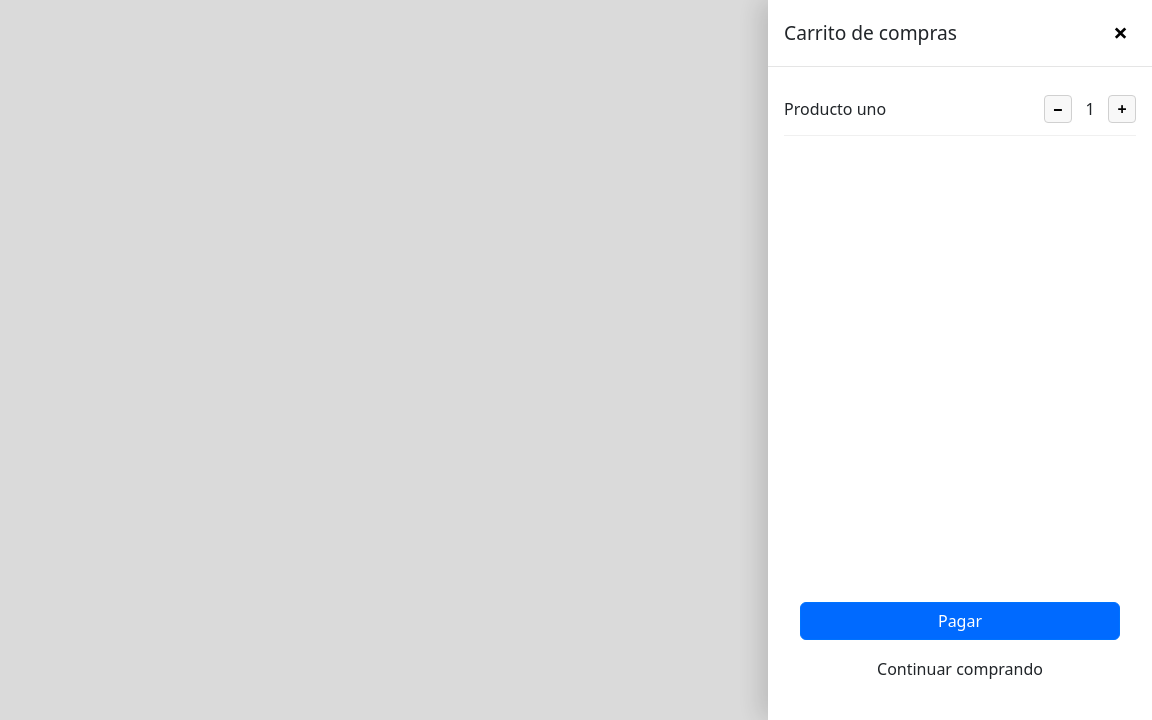
Test: ShoppingCartComponent › el botón disminuir elimina la línea al llegar a una unidad
Step 1. Click the button named "Disminuir Producto uno" → point(1058, 109), box x1=1044 y1=95 x2=1072 y2=123
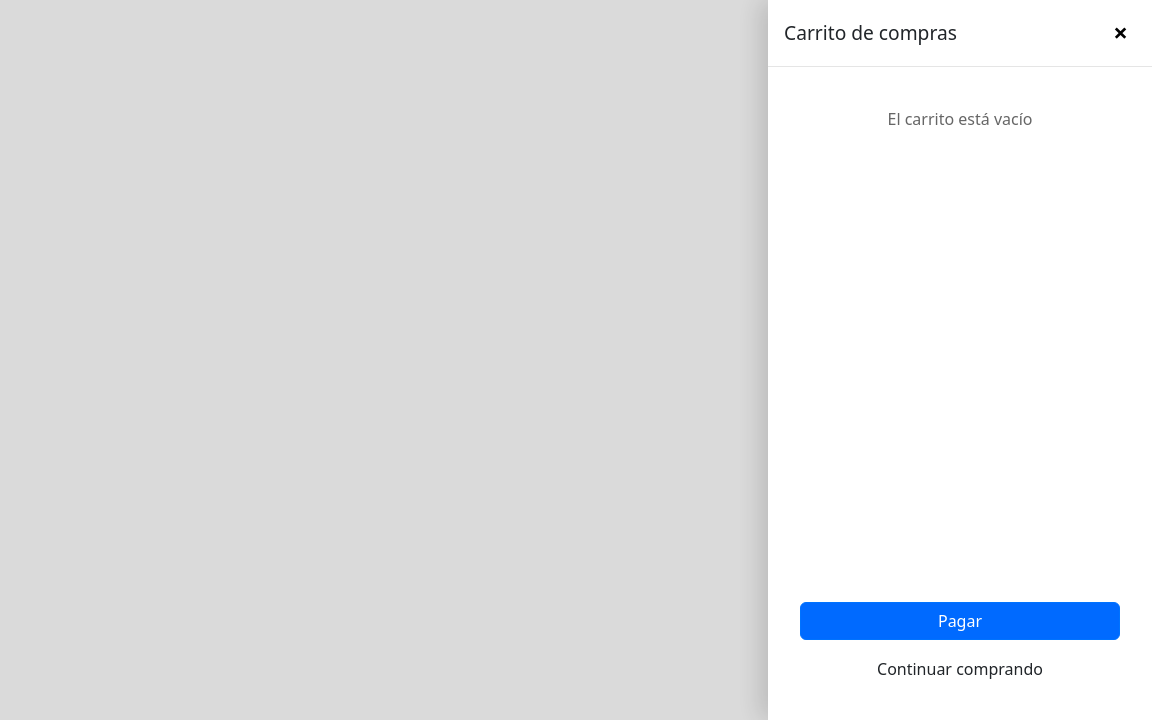
Check: the text "Producto uno" is gone
Check: the text "El carrito está vacío" is shown, box x1=888 y1=108 x2=1032 y2=130
